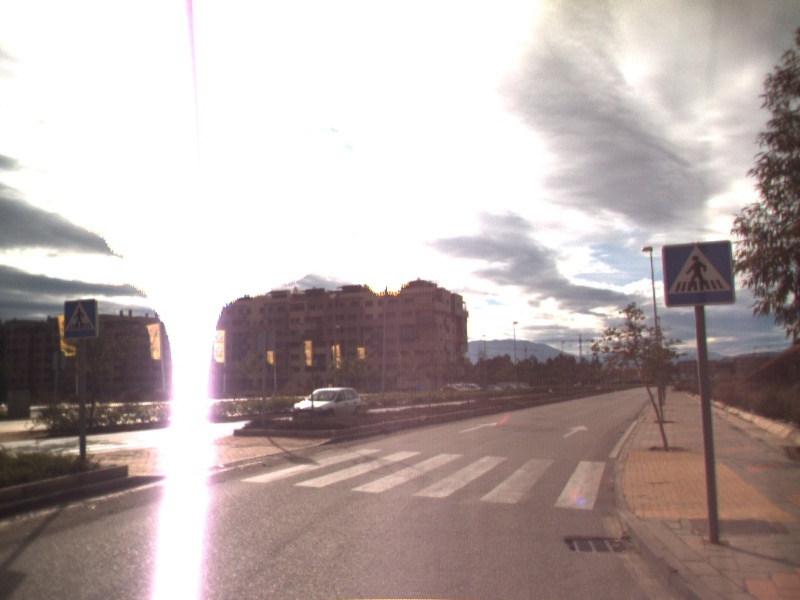STRAIGHT: (455, 420, 500, 435), (560, 422, 590, 439)
